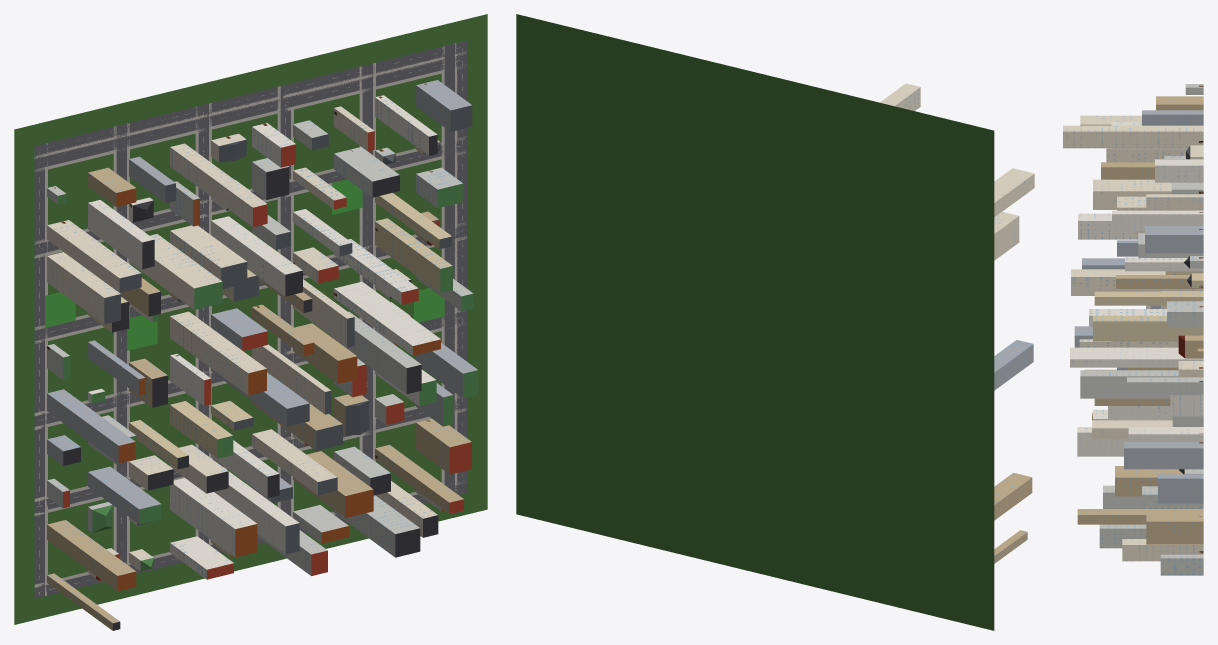
File: city.obj
The picture shows the model from 3 angles, left to right: view 1: azimuth 30°, elevation 25°; view 2: azimuth 150°, elevation 25°; view 3: azimuth 270°, elevation 25°; orthographic projection. The views are drawn at different scales.
Visible parts, largest first — view 1: ground, roads, sidewalks, b_2c912279, b_95d33f3a, parks, b_39466427, b_b0106a09, b_e41ac364, b_ad4798a0, b_cdba42f6, b_8ade16ba (+63 smaller); view 2: ground, b_cf7e9826, b_cdba42f6, b_9e24d595, b_8ade16ba, b_e41ac364; view 3: b_e41ac364, b_39466427, b_f754aa51, b_cc541f0b, b_734d54f9, b_e65c4a72, b_b63567e3, b_dba762c2, b_b0106a09, b_95d33f3a, b_1bf4c433, b_7e06cf25 (+41 smaller).
Part boxes in pixels (box(x1,y1,x2,y2)): ground: box(14, 14, 487, 624); roads: box(34, 40, 467, 598); sidewalks: box(34, 43, 467, 595); b_2c912279: box(170, 478, 257, 557); b_95d33f3a: box(170, 311, 266, 395); parks: box(45, 179, 444, 350); b_39466427: box(334, 281, 440, 355); b_b0106a09: box(129, 234, 222, 309); b_e41ac364: box(170, 143, 267, 226); b_ad4798a0: box(211, 216, 302, 296); b_cdba42f6: box(47, 220, 141, 292); b_8ade16ba: box(47, 252, 120, 324); ground: box(516, 14, 994, 630); b_cf7e9826: box(994, 340, 1033, 390); b_cdba42f6: box(994, 168, 1034, 216); b_9e24d595: box(994, 472, 1032, 520); b_8ade16ba: box(994, 212, 1019, 260); b_e41ac364: box(880, 83, 920, 110); b_e41ac364: box(1063, 125, 1203, 148); b_39466427: box(1070, 347, 1203, 367); b_f754aa51: box(1093, 316, 1203, 341); b_cc541f0b: box(1124, 442, 1203, 469); b_734d54f9: box(1080, 370, 1178, 398); b_e65c4a72: box(1146, 512, 1203, 544); b_b63567e3: box(1145, 226, 1203, 253); b_dba762c2: box(1112, 210, 1203, 230); b_b0106a09: box(1093, 179, 1171, 209); b_95d33f3a: box(1071, 269, 1203, 295); b_1bf4c433: box(1094, 291, 1203, 305); b_7e06cf25: box(1127, 377, 1203, 394).
Bounding box in the file's own units: 231 × 231 × 70.05.
